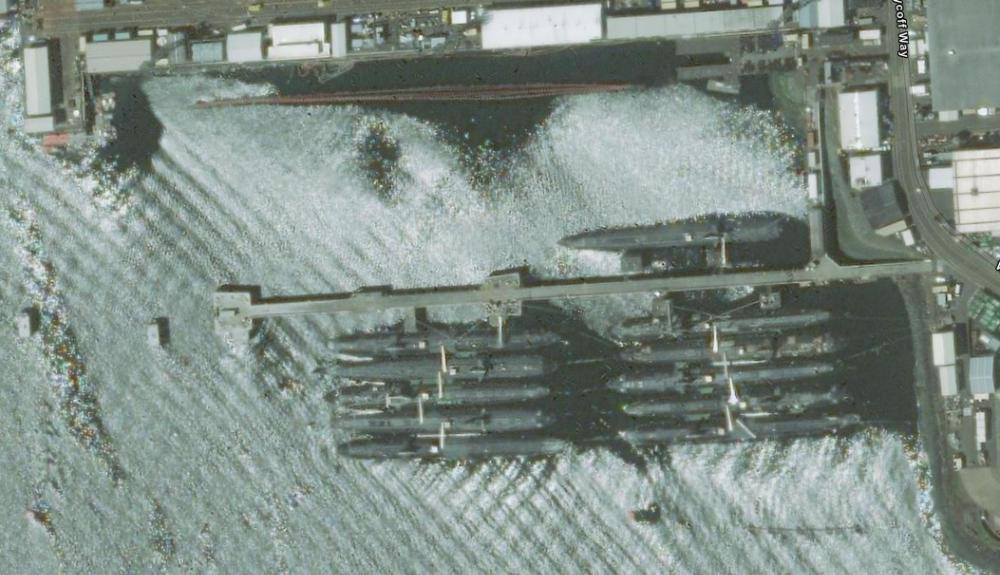submarine: (542, 173, 803, 262), (326, 434, 590, 502), (307, 378, 605, 418), (623, 417, 875, 464), (606, 298, 857, 342), (599, 359, 875, 398), (323, 319, 574, 357)
